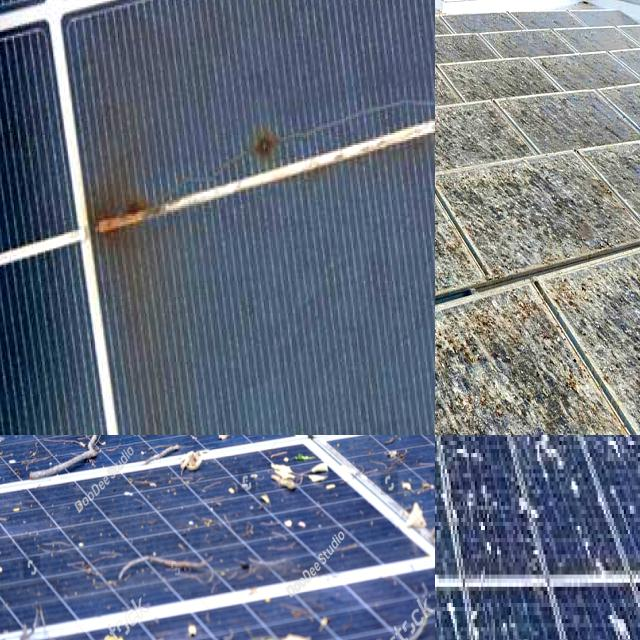bird: (435, 333, 517, 431), (580, 244, 640, 332), (448, 435, 500, 530), (522, 435, 591, 506), (466, 182, 536, 238), (435, 361, 485, 435), (435, 216, 471, 308), (435, 191, 476, 271), (435, 439, 463, 545), (539, 396, 614, 435), (435, 243, 467, 324), (435, 449, 460, 546), (435, 567, 466, 640), (435, 470, 457, 567), (435, 458, 458, 549), (552, 435, 612, 468), (435, 435, 458, 512), (435, 145, 473, 185), (435, 509, 458, 573), (438, 435, 482, 464), (603, 602, 632, 640), (435, 583, 454, 640), (435, 435, 461, 471), (435, 435, 456, 475), (435, 164, 457, 202)
shadow: (59, 118, 198, 271), (227, 99, 304, 193)
